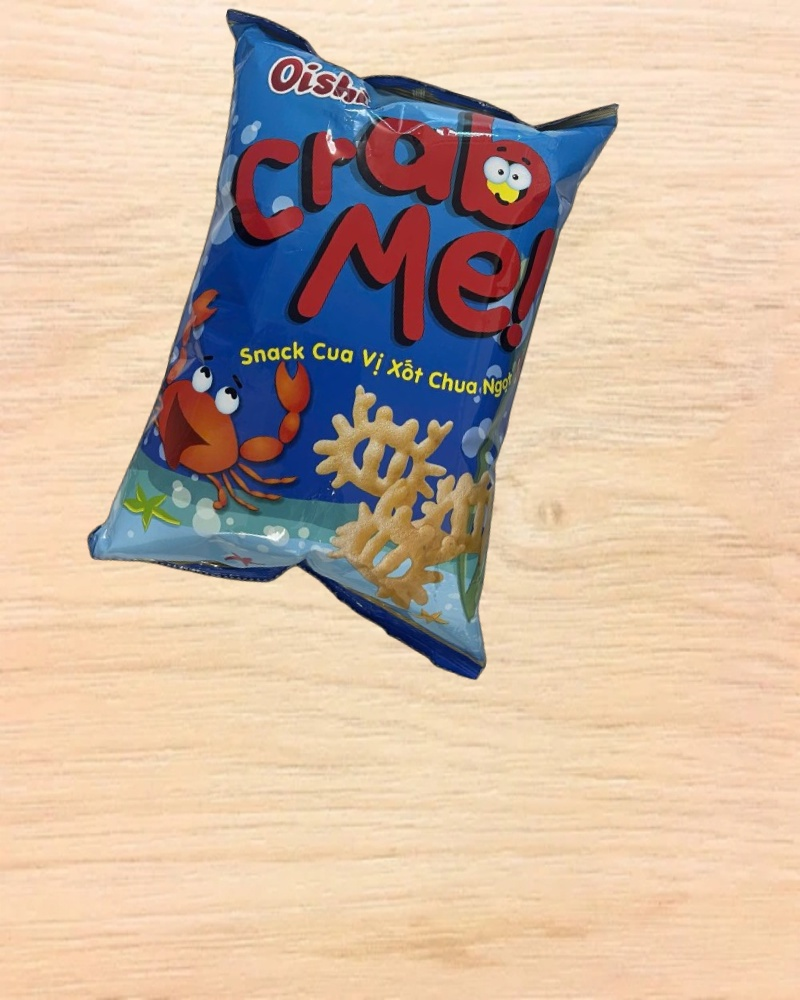Snack chay: (77, 2, 634, 684)
